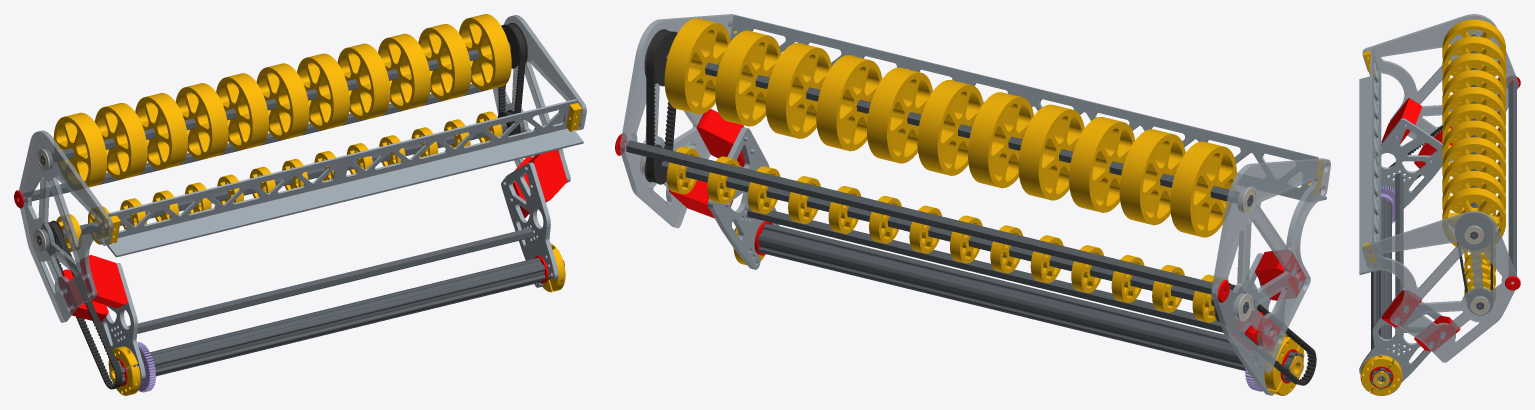
3 renders of one model, left to right at view 1: azimuth 30°, elevation 25°; view 2: azimuth 150°, elevation 25°; view 3: azimuth 270°, elevation 25°, orthographic. The views are drawn at different scales.
Parts seen in each view (by area): view 1: TTB-0057 (×11), NTK-26056-001, NTK-26140-001, NTK-26062-002 - Intake Outer Right Light, NTK-26044-003 (×2), NTK-26141-001, NTK-26045-001 (×3), NTK-26042-002 - Intake Outer Left Light, NTK-26043-001 (×2), WCP-0629, NTK-26142-001, REV-21-2581 (×2) (+4 smaller); view 2: TTB-0057 (×11), NTK-26140-001, NTK-26062-002 - Intake Outer Right Light, TTB-0032 (×14), NTK-26056-001, NTK-26142-001, NTK-26043-001 (×2), NTK-26042-002 - Intake Outer Left Light, NTK-26045-001 (×4), NTK-26141-001, NTK-26044-003 (×2), WCP-0621 (+3 smaller); view 3: TTB-0057 (×11), NTK-26042-002 - Intake Outer Left Light, NTK-26044-003 (×2), NTK-26056-001, NTK-26062-002 - Intake Outer Right Light, NTK-26045-001 (×4), NTK-26140-001, NTK-26142-001, NTK-26141-001, TTB-0032 (×3), REV-21-2581, NTK-26149-001 (+7 smaller).
Boxes of the visible parts, box(x1,y1,x2,y2) form: TTB-0057 (×11): box(53, 14, 511, 188); NTK-26056-001: box(104, 99, 583, 257); NTK-26140-001: box(109, 257, 564, 383); NTK-26062-002 - Intake Outer Right Light: box(19, 130, 113, 322); NTK-26044-003 (×2): box(100, 162, 558, 379); NTK-26141-001: box(127, 227, 533, 333); NTK-26045-001 (×3): box(57, 150, 567, 321); NTK-26042-002 - Intake Outer Left Light: box(492, 15, 586, 183); NTK-26043-001 (×2): box(37, 42, 510, 245); WCP-0629: box(48, 221, 122, 389); NTK-26142-001: box(23, 84, 483, 201); REV-21-2581 (×2): box(108, 243, 565, 395); TTB-0057 (×11): box(664, 18, 1236, 237); NTK-26140-001: box(734, 223, 1303, 381); NTK-26062-002 - Intake Outer Right Light: box(1211, 158, 1330, 372); TTB-0032 (×14): box(666, 146, 1222, 322); NTK-26056-001: box(730, 14, 1326, 201); NTK-26142-001: box(626, 140, 1218, 294); NTK-26043-001 (×2): box(661, 53, 1253, 313); NTK-26042-002 - Intake Outer Left Light: box(619, 14, 733, 228); NTK-26045-001 (×4): box(668, 109, 1305, 350); NTK-26141-001: box(747, 207, 1223, 332); NTK-26044-003 (×2): box(707, 127, 1285, 395); WCP-0621: box(646, 30, 676, 182); TTB-0057 (×11): box(1442, 19, 1505, 251); NTK-26042-002 - Intake Outer Left Light: box(1362, 211, 1517, 362); NTK-26044-003 (×2): box(1359, 118, 1442, 382); NTK-26056-001: box(1359, 47, 1381, 274); NTK-26062-002 - Intake Outer Right Light: box(1362, 14, 1518, 162); NTK-26045-001 (×4): box(1381, 98, 1460, 351); NTK-26140-001: box(1371, 197, 1391, 389); NTK-26142-001: box(1508, 81, 1516, 283); NTK-26141-001: box(1395, 173, 1403, 348); TTB-0032 (×3): box(1464, 252, 1495, 301); REV-21-2581: box(1360, 355, 1402, 395); NTK-26149-001: box(1455, 213, 1492, 249).
Size of the model in its own units: 0.7595 by 0.3514 by 0.2577.
